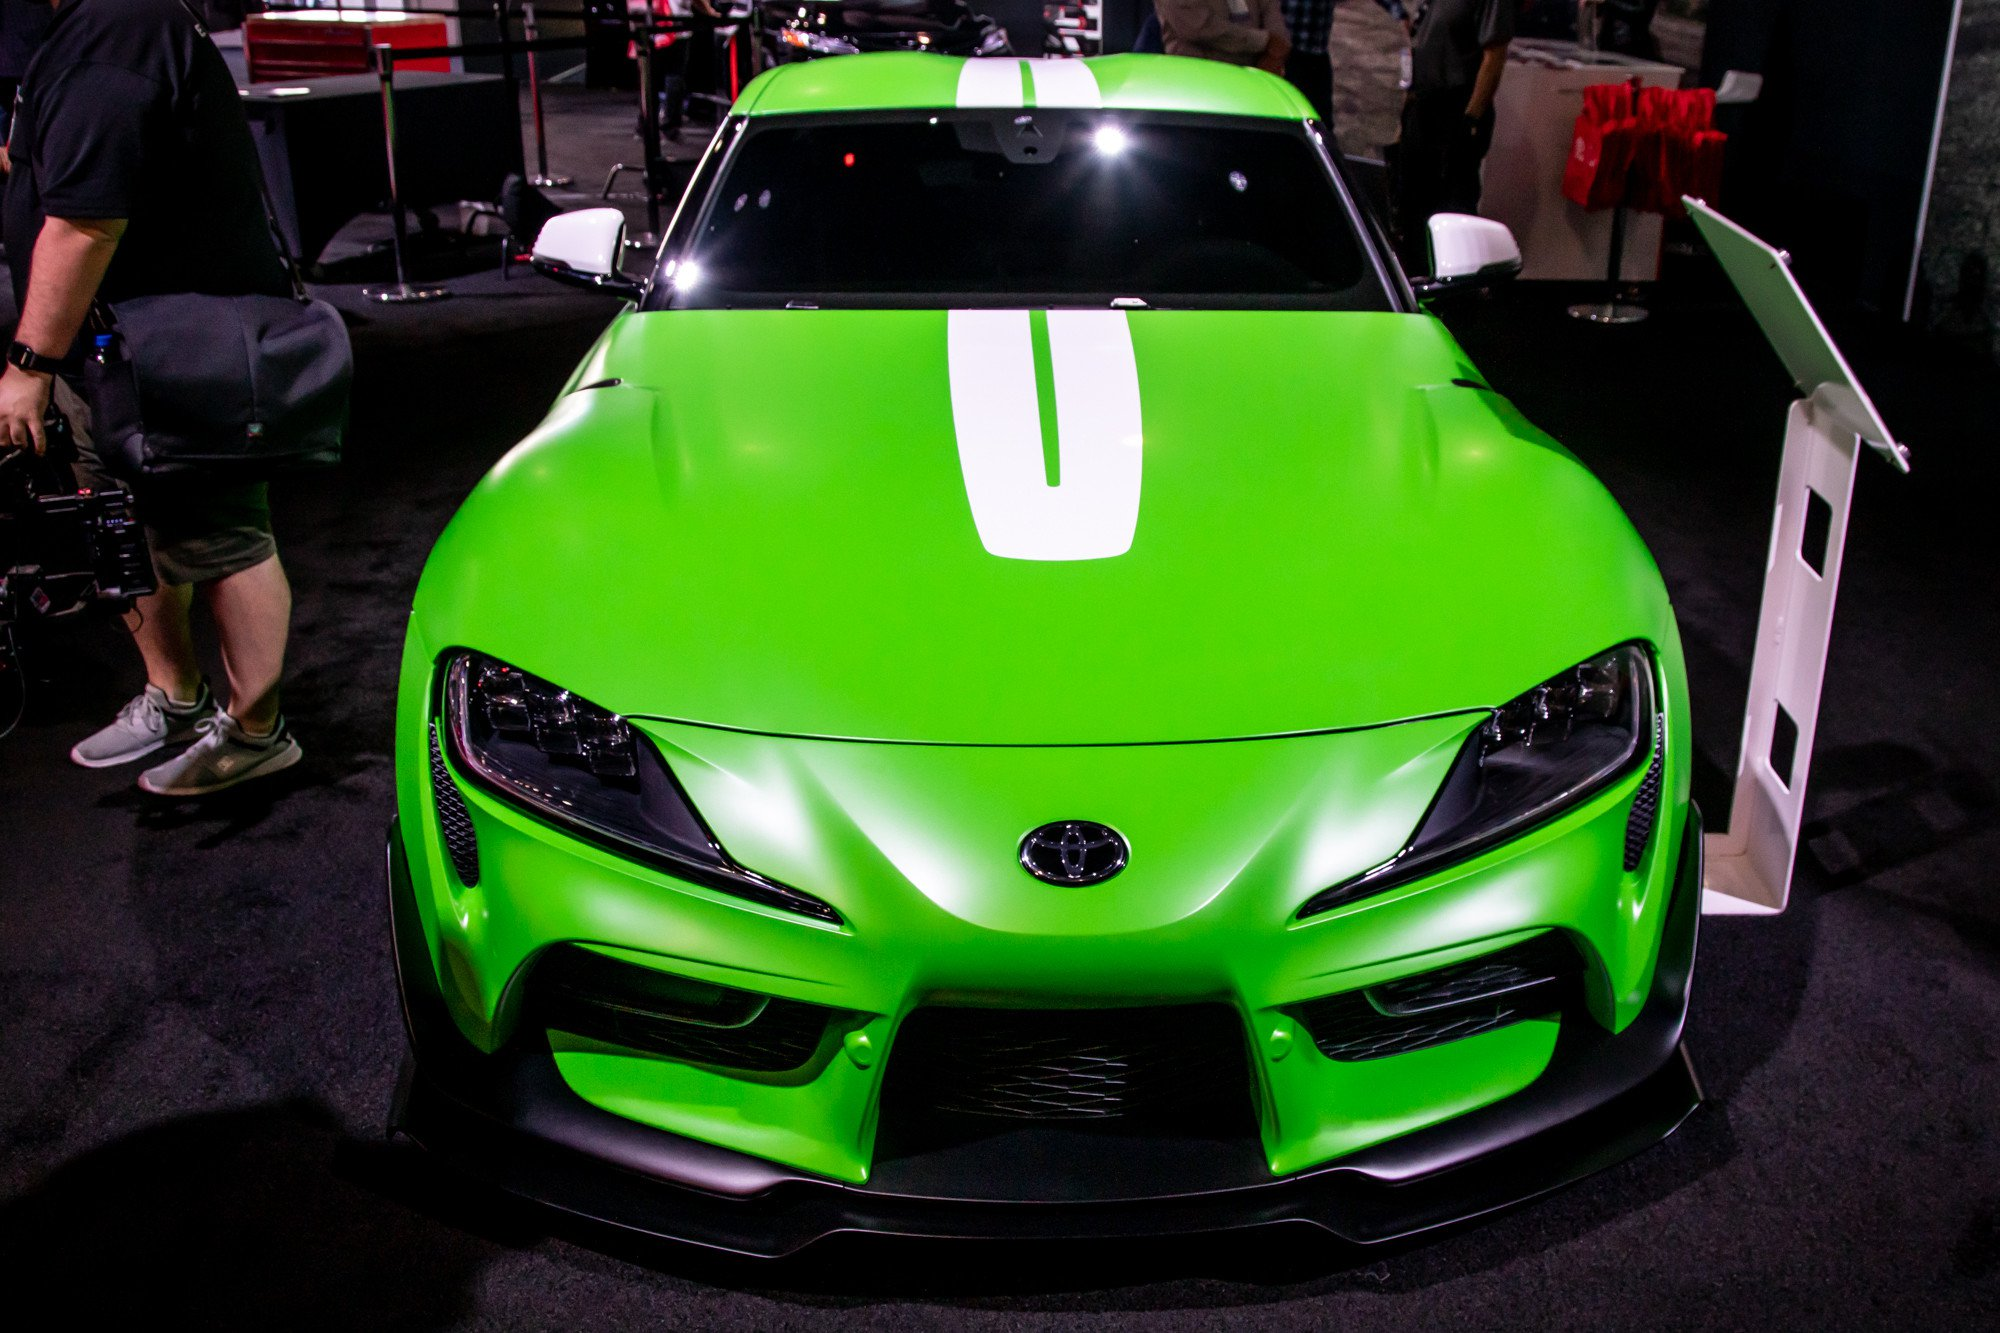car: (391, 54, 1714, 1204)
